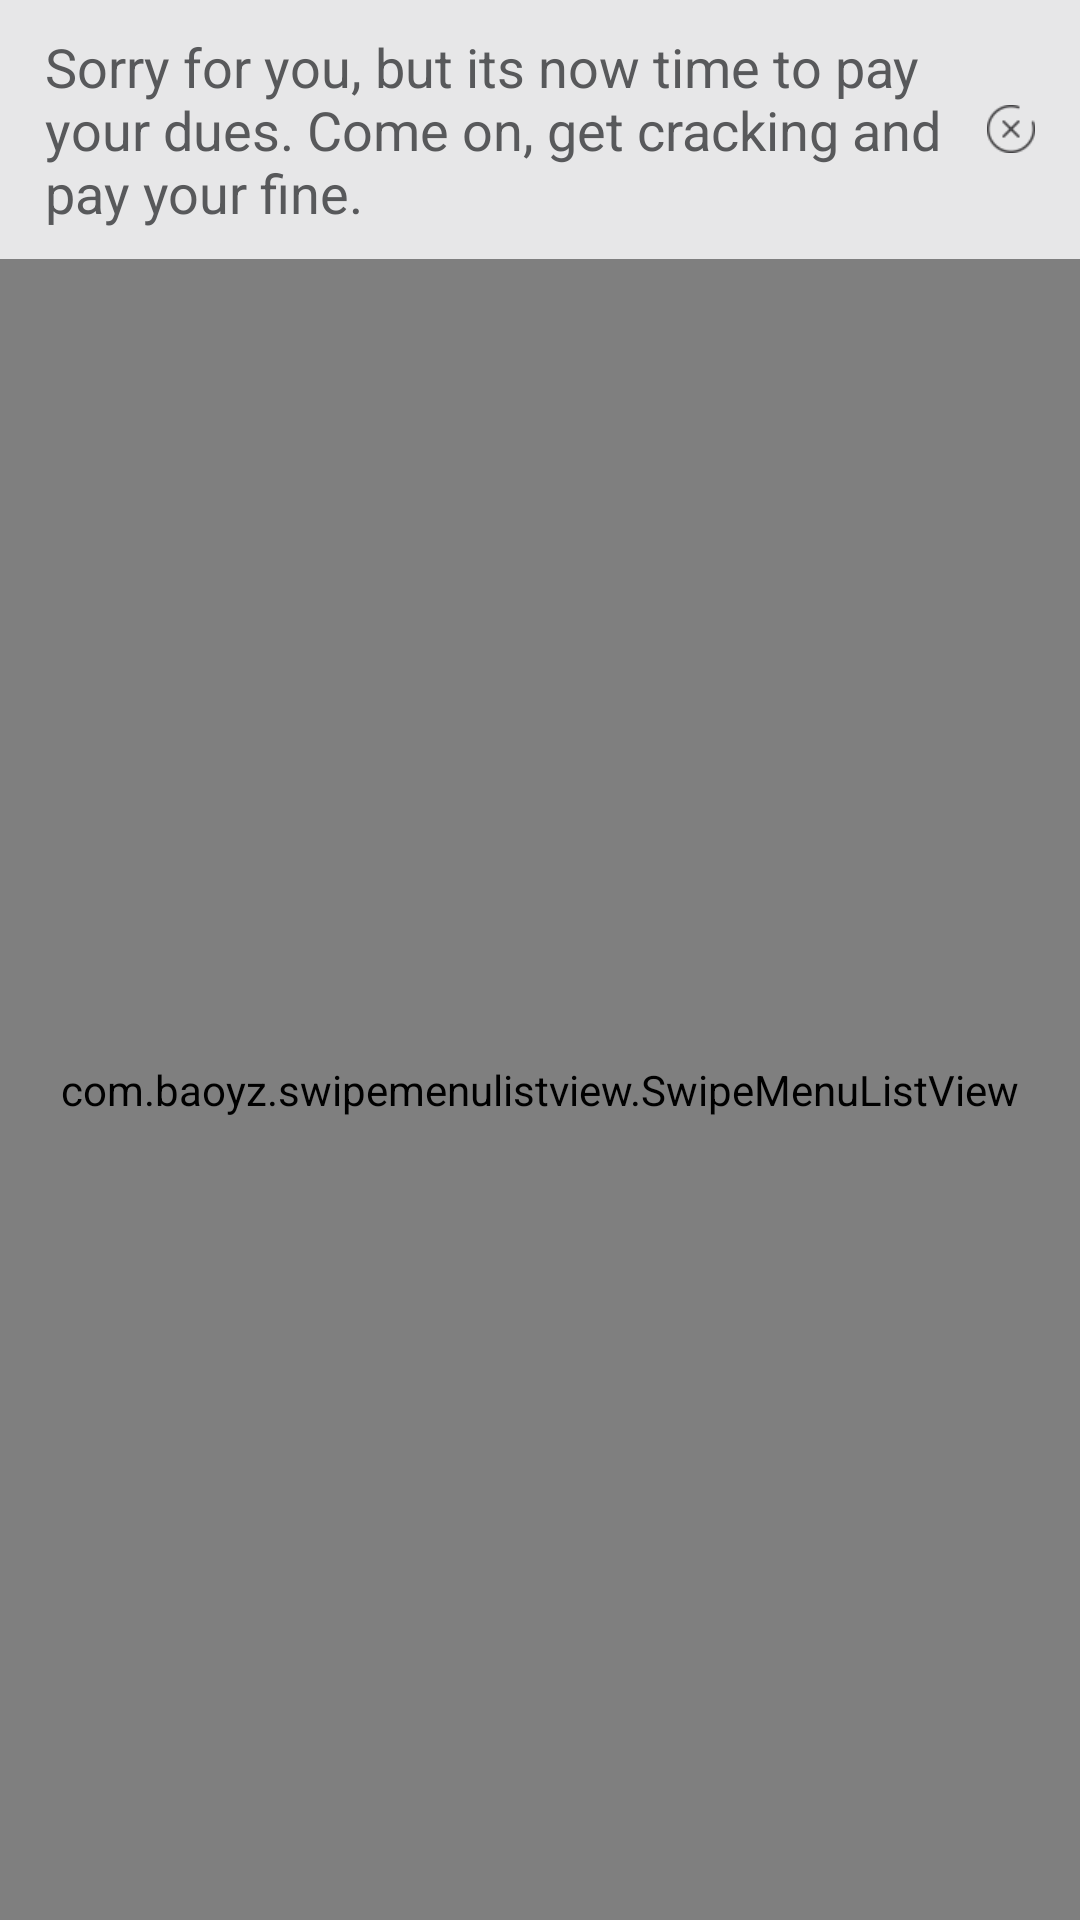

Screen size 1080*1920. Icon name, then its box in pixels as (x1, y1, x2, y2):
close: (987, 105, 1035, 153)
